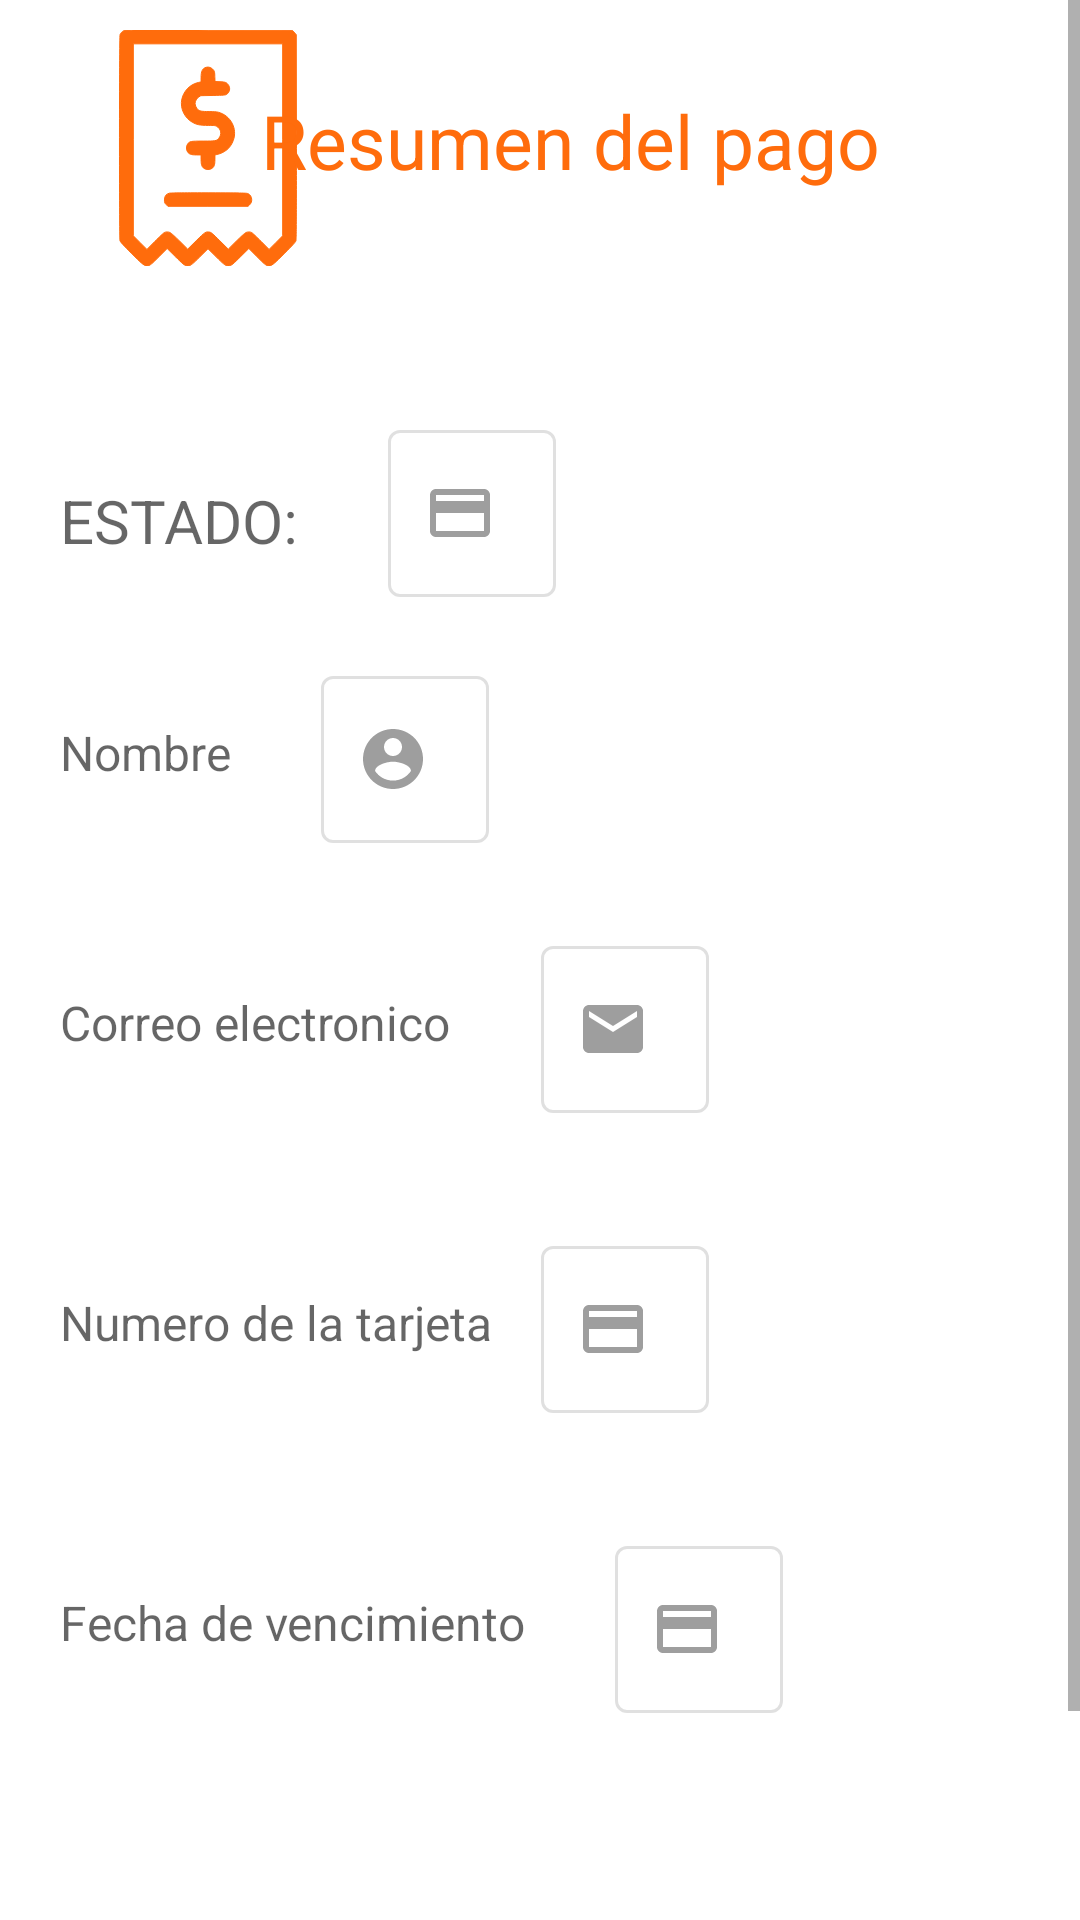

Point at icon controls on the screen. Image size 1080w x 1920h, points as (x,y).
factura: (212,148)
